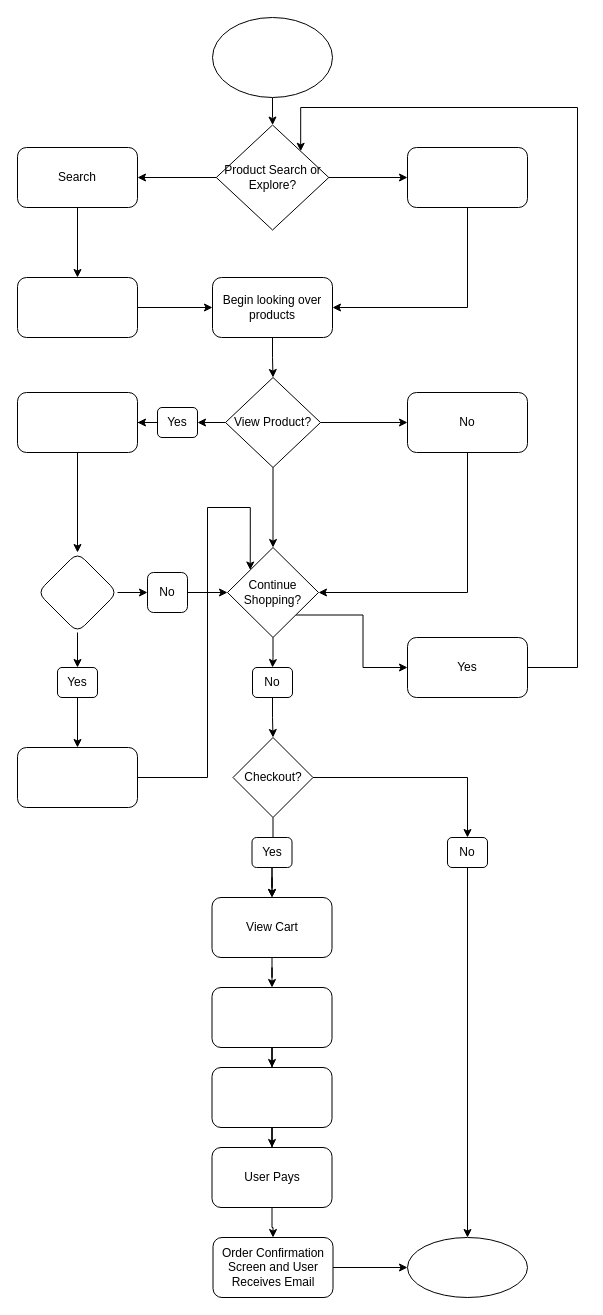
This 603x1315 diagram has some shape labels left out. Each missing label, with the centre of its shape:
"Add to Cart?" belongs at (77,592).
"Added to Cart (Confirmation)" belongs at (77,777).
"Explore" belongs at (467,177).
"Product Page Opens" belongs at (77,422).
"User Enters Website" belongs at (272,57).
"User gives input of their payment information" belongs at (271,1097).
"User Leaves Website" belongs at (467,1267).
"User provides input for search" belongs at (77,307).
"View Payment" belongs at (271,1017).
